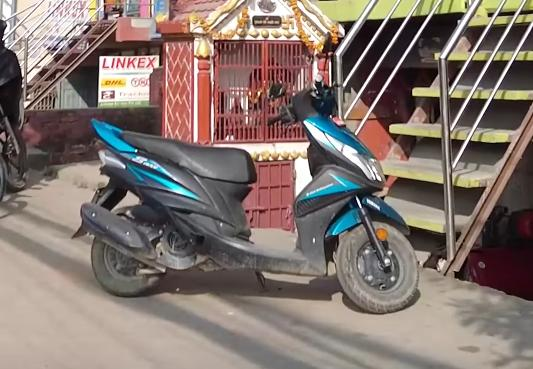scooter: (71, 76, 431, 315)
